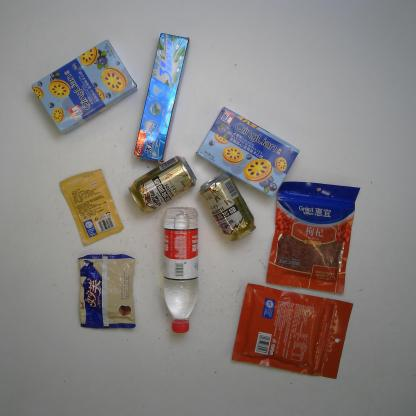Alcohol: (198, 171, 256, 242), (128, 155, 197, 212)
Dessert: (31, 40, 137, 134), (196, 106, 299, 198), (80, 254, 138, 328)
Dried Fruit: (230, 284, 354, 379), (266, 182, 362, 293)
Drink: (162, 207, 200, 333)
Personal Hygiene: (133, 33, 190, 162)
Seasoner: (60, 169, 124, 245)
